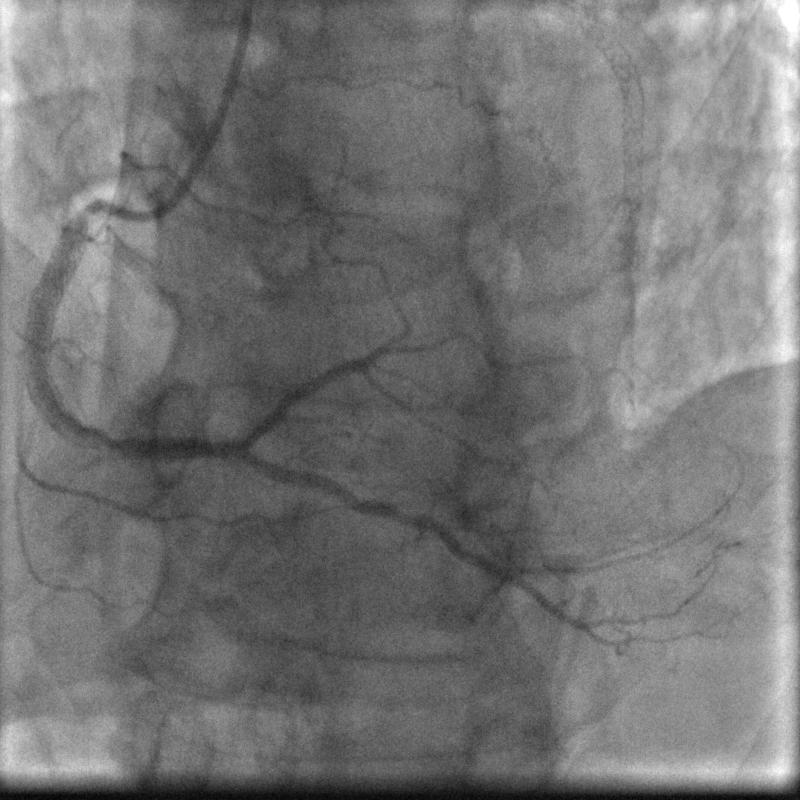Stenosis: (64, 191, 124, 239)
